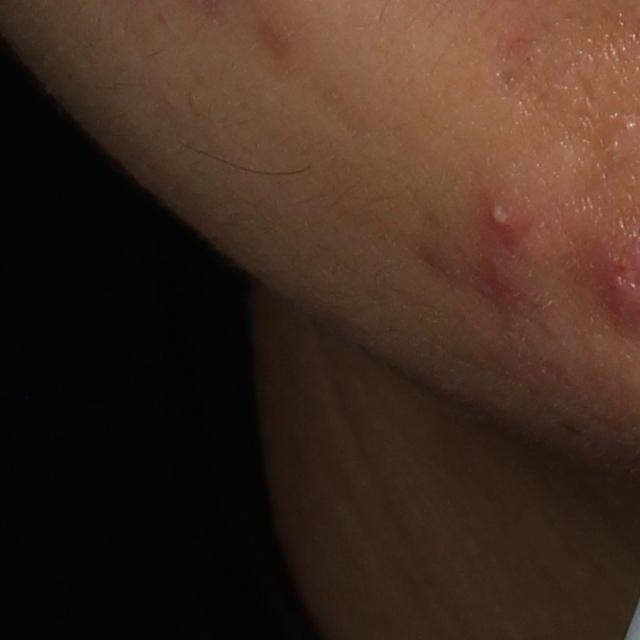atrophic_scar: (237, 9, 366, 130), (424, 251, 536, 325)
pustule: (479, 196, 524, 239)
